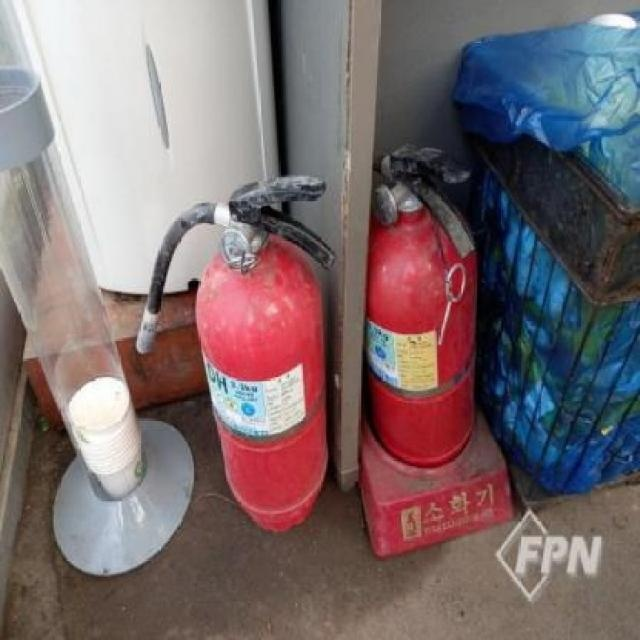fire extinguisher: (135, 174, 336, 532), (366, 145, 477, 470)
